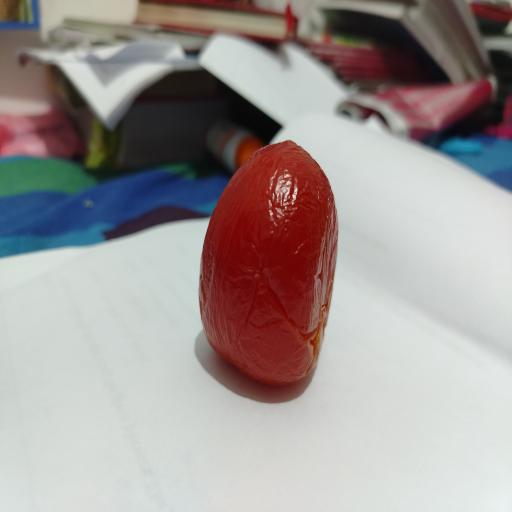spoiled: (199, 141, 338, 385)
